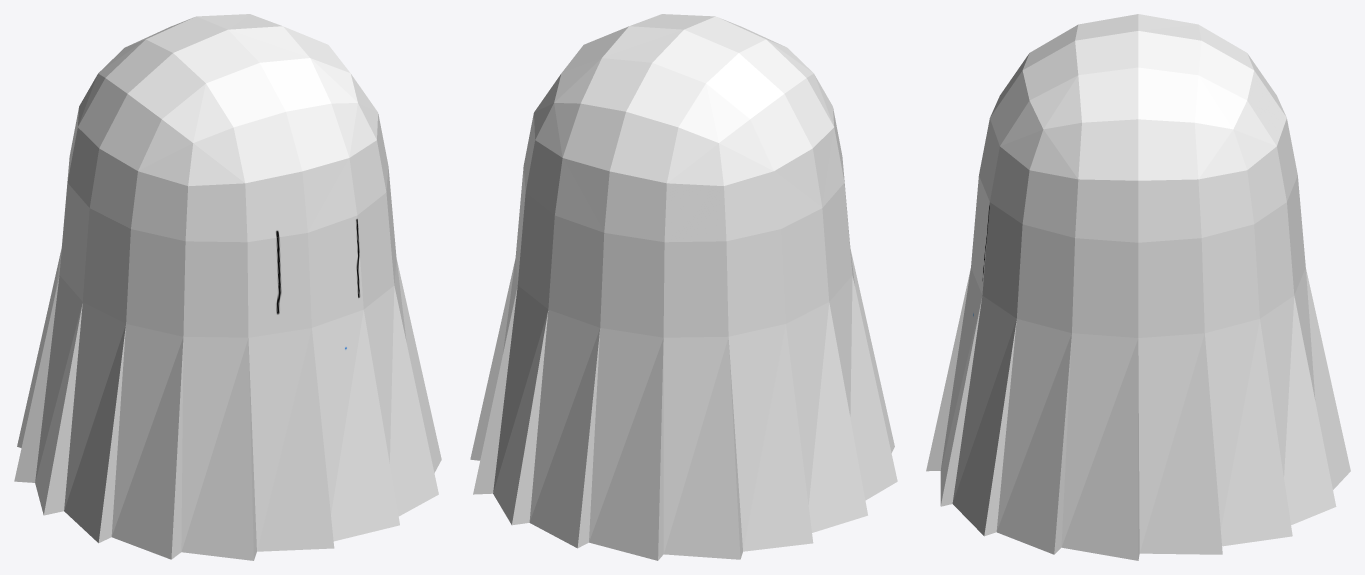
Rendered from float_Head.obj.
3 renders of one model, left to right at view 1: azimuth 30°, elevation 25°; view 2: azimuth 150°, elevation 25°; view 3: azimuth 270°, elevation 25°, orthographic.
Visible parts, largest first — view 1: Cube; view 2: Cube; view 3: Cube.
Part boxes in pixels (x1=…): Cube: x1=14, y1=14, x2=441, y2=560; Cube: x1=470, y1=14, x2=897, y2=560; Cube: x1=926, y1=14, x2=1350, y2=560.
Size of the model in its own units: 1.52 by 1.74 by 1.52.
1 material, 1 textured.
